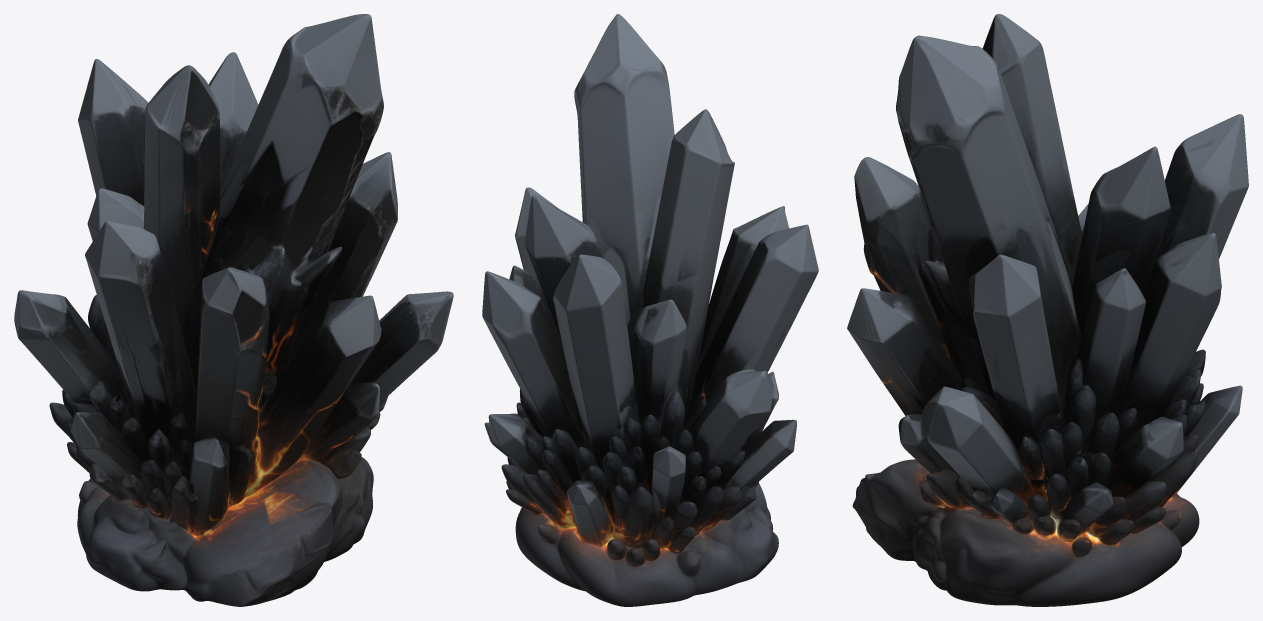
The picture shows the model from 3 angles, left to right: view 1: azimuth 30°, elevation 25°; view 2: azimuth 150°, elevation 25°; view 3: azimuth 270°, elevation 25°; orthographic projection. The views are drawn at different scales.
Visible parts, largest first — view 1: node_0; view 2: node_0; view 3: node_0.
Part boxes in pixels (box(x1,y1,x2,y2)): node_0: box(14, 14, 453, 606); node_0: box(482, 14, 818, 606); node_0: box(847, 14, 1248, 606).
Size of the model in its own units: 0.7119 by 1.03 by 0.6706.
Materials: 1 (1 with a texture image).
